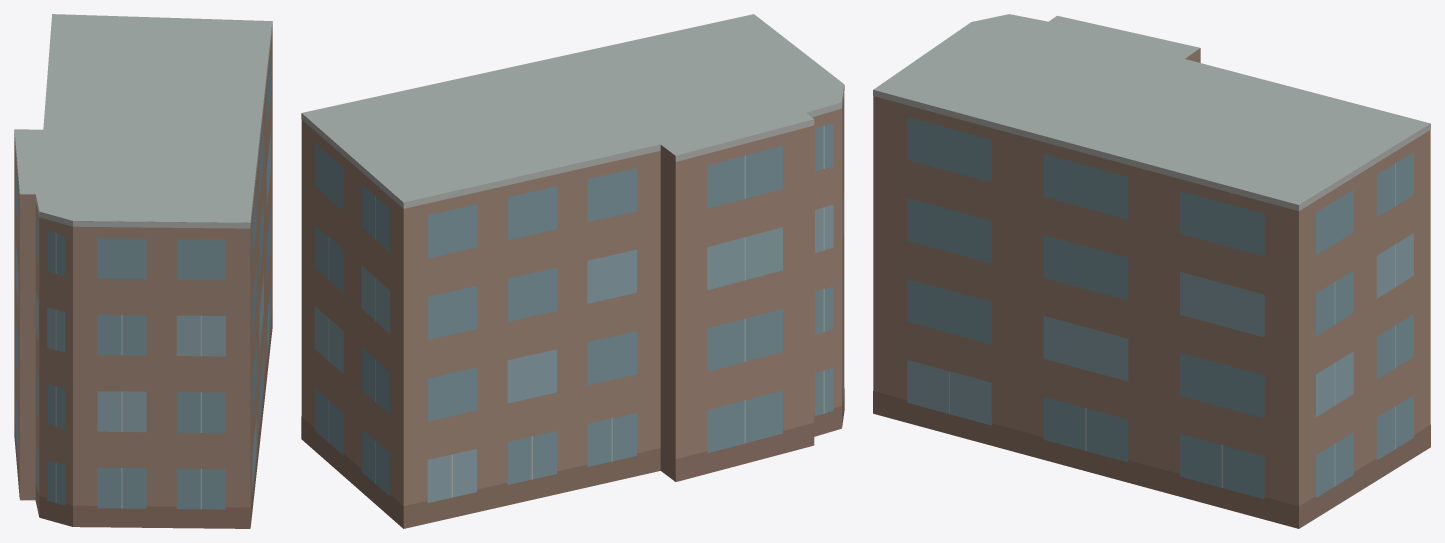
Rendered from survey-upis-33030397.glb.
The picture shows the model from 3 angles, left to right: view 1: azimuth 30°, elevation 25°; view 2: azimuth 150°, elevation 25°; view 3: azimuth 270°, elevation 25°; orthographic projection. The views are drawn at different scales.
Parts seen in each view (by area): view 1: survey-upis-33030397.tmp; view 2: survey-upis-33030397.tmp; view 3: survey-upis-33030397.tmp.
Part boxes in pixels (x1,y1,x2,y2): survey-upis-33030397.tmp: (14, 14, 272, 528); survey-upis-33030397.tmp: (301, 14, 844, 528); survey-upis-33030397.tmp: (873, 14, 1430, 528).
Size of the model in its own units: 16.2 by 12.8 by 19.98.
